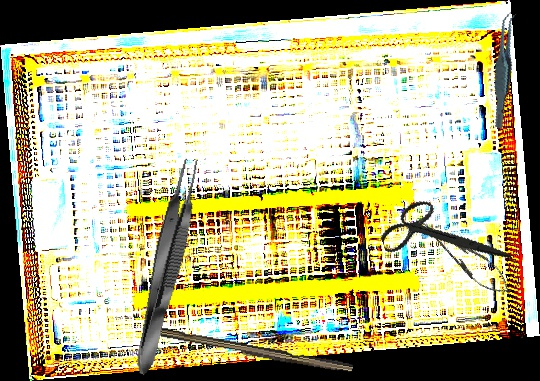Iris Scissors: (373, 178, 513, 297)
Needle Holder: (412, 211, 518, 303)
Scalpel Handle: (156, 326, 354, 377)
Tissue Forceps: (126, 153, 207, 380), (470, 10, 538, 130)
